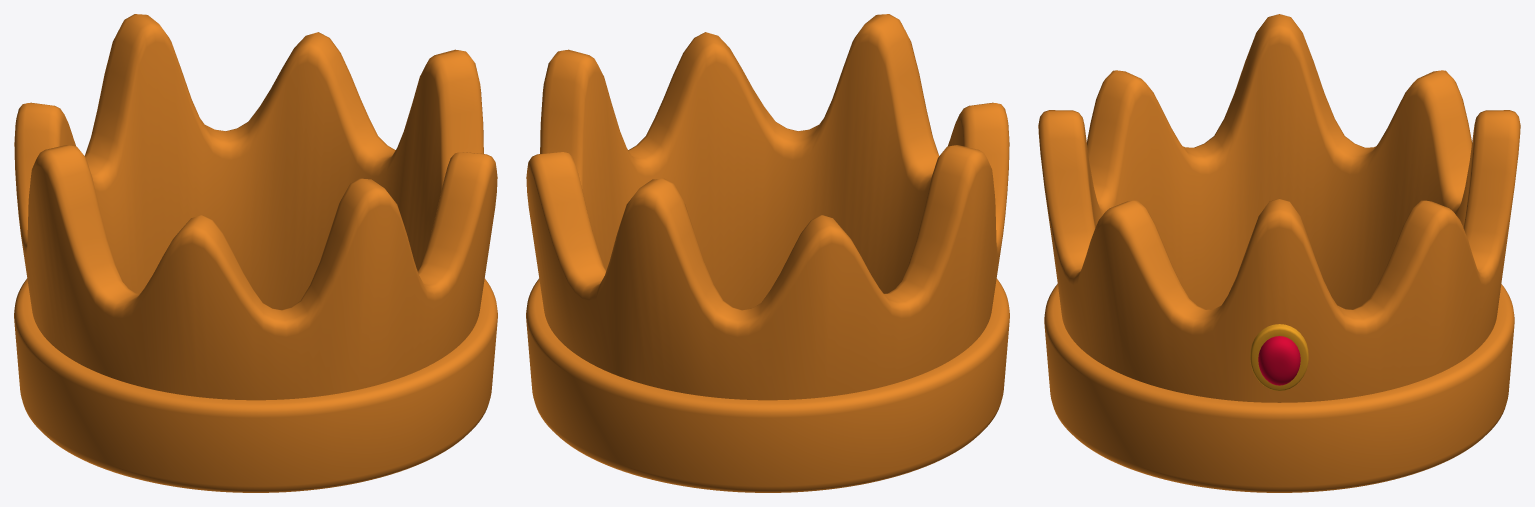
3 views of the same model, side by side, from view 1: azimuth 30°, elevation 25°; view 2: azimuth 150°, elevation 25°; view 3: azimuth 270°, elevation 25° (orthographic). The views are drawn at different scales.
Visible parts, largest first — view 1: crown; view 2: crown; view 3: crown.
Boxes of the visible parts, x1,y1,x2,y2 form: crown: (14,14,497,492); crown: (526,14,1009,492); crown: (1038,14,1520,492).
Size of the model in its own units: 2.04 by 1.31 by 2.
